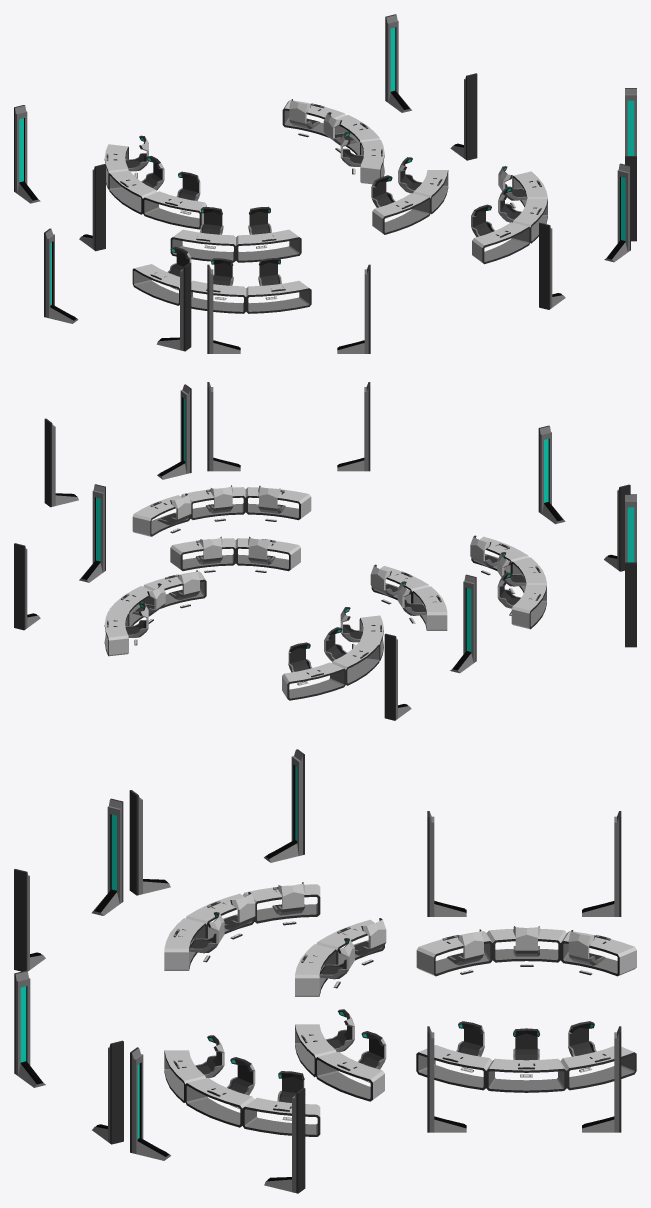
File: Objetos_Monitoramento_SegundoAndar.gltf
3 renders of one model, top to bottom at view 1: azimuth 30°, elevation 25°; view 2: azimuth 150°, elevation 25°; view 3: azimuth 270°, elevation 25°, orthographic. The views are drawn at different scales.
Parts seen in each view (by area): view 1: Monitor_Mesa_Base_Curvo.001; view 2: Monitor_Mesa_Base_Curvo.001; view 3: Monitor_Mesa_Base_Curvo.001.
Boxes of the visible parts, x1,y1,x2,y2 form: Monitor_Mesa_Base_Curvo.001: (14,14,636,353); Monitor_Mesa_Base_Curvo.001: (14,382,636,720); Monitor_Mesa_Base_Curvo.001: (14,749,636,1193).
Size of the model in its own units: 26.52 by 3.6 by 20.28.
1 material, 1 textured.
